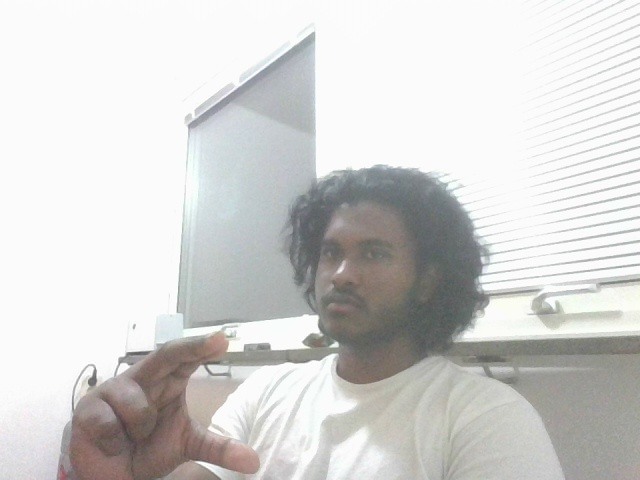no: (56, 325, 269, 473)
